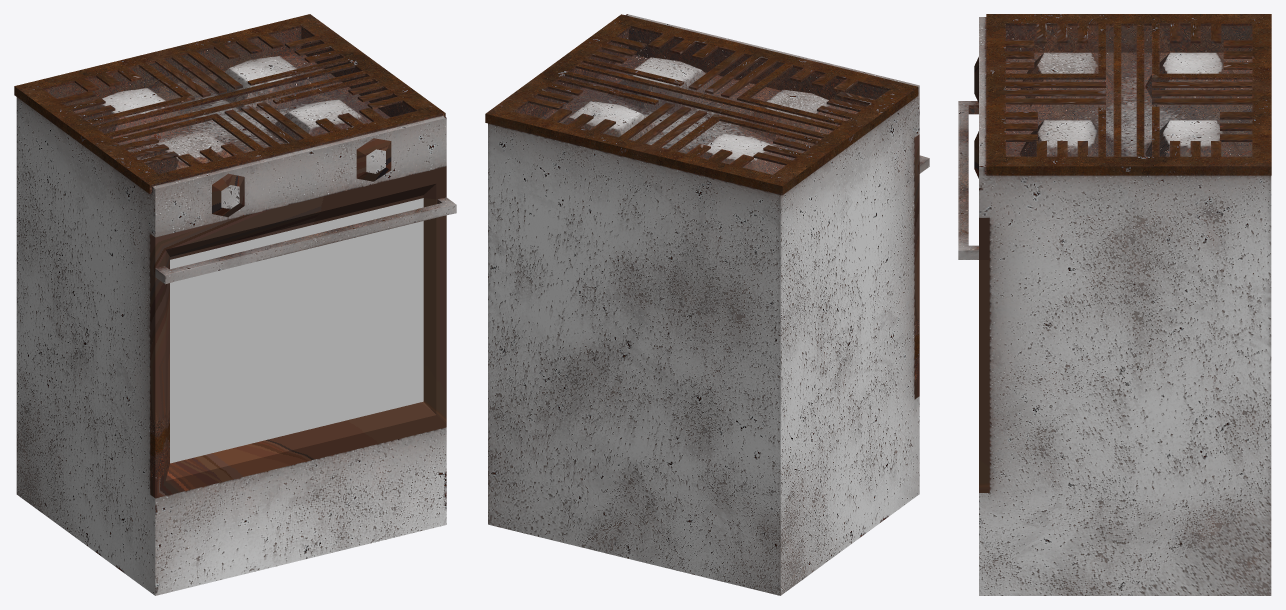
The model's file is spis.fbx.
The picture shows the model from 3 angles, left to right: view 1: azimuth 30°, elevation 25°; view 2: azimuth 150°, elevation 25°; view 3: azimuth 270°, elevation 25°; orthographic projection. The views are drawn at different scales.
Visible parts, largest first — view 1: spis, spis.001; view 2: spis, spis.001; view 3: spis, spis.001.
Boxes of the visible parts, x1,y1,x2,y2 form: spis: (14,14,446,595); spis.001: (150,166,456,498); spis: (485,14,919,595); spis.001: (914,134,929,399); spis: (974,14,1271,595); spis.001: (958,101,989,492).
Bounding box in the file's own units: 1287 × 1700 × 1121.
